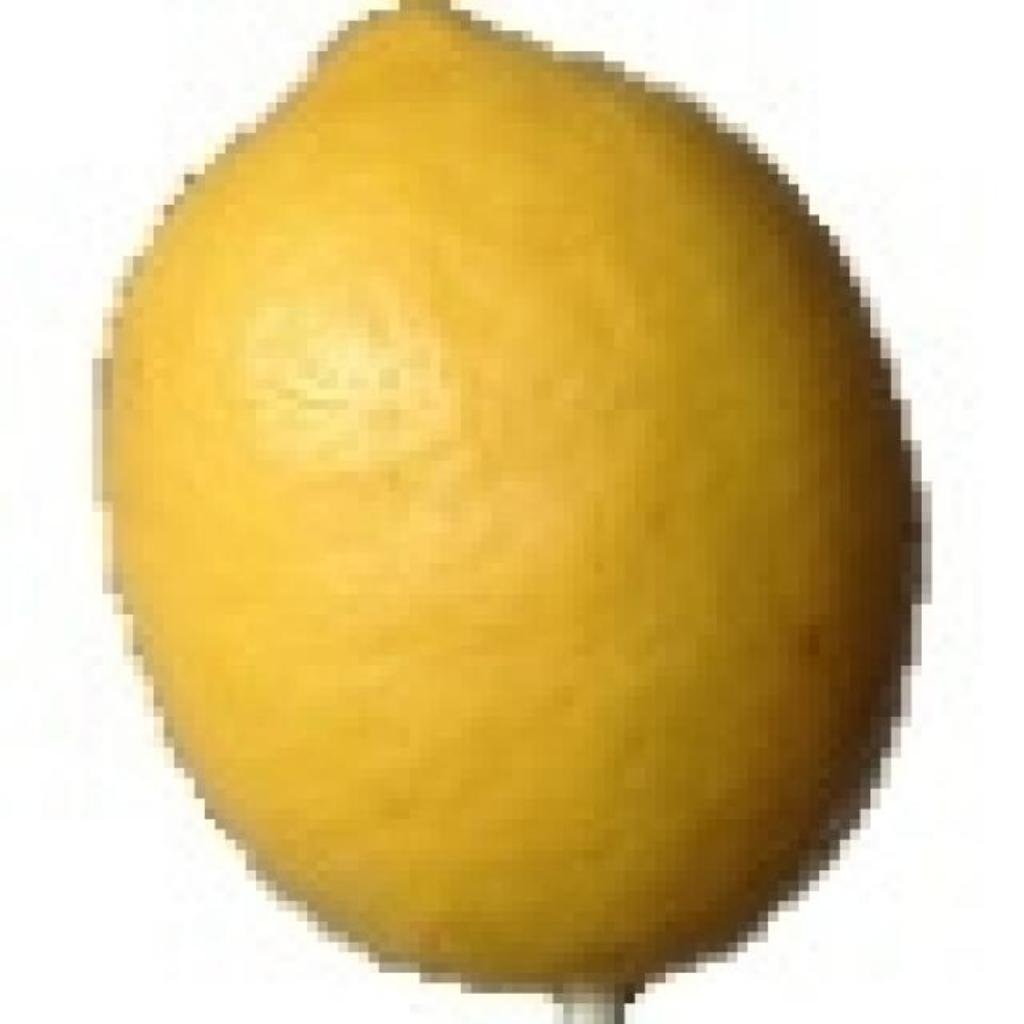lemon: (104, 0, 914, 1001)
